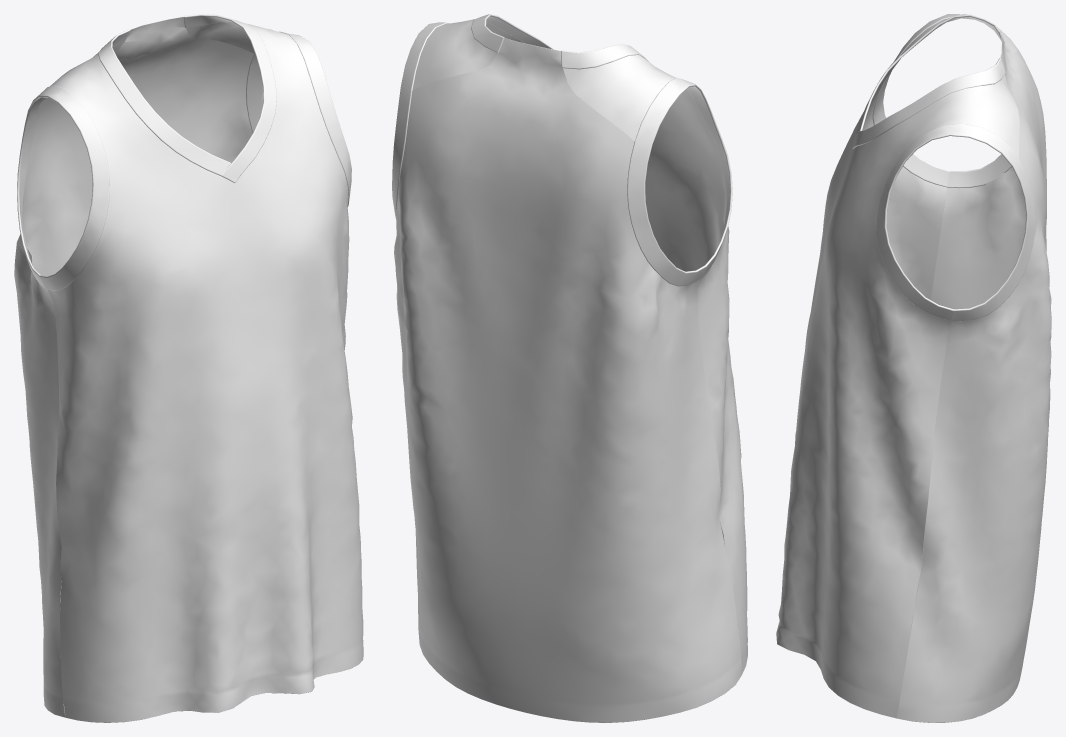
Rendered from adiglan b.glb.
3 renders of one model, left to right at view 1: azimuth 30°, elevation 25°; view 2: azimuth 150°, elevation 25°; view 3: azimuth 270°, elevation 25°, orthographic. The views are drawn at different scales.
Visible parts, largest first — view 1: FRENTE_Node, ESPALDA_Node, SISA DERECHA_Node, CUELLO DERECHO_Node, SISA IZQUIERDA_Node, CUELLO IZQUIERDO_Node; view 2: ESPALDA_Node, FRENTE_Node, SISA DERECHA_Node, SISA IZQUIERDA_Node, CUELLO IZQUIERDO_Node, CUELLO DERECHO_Node; view 3: FRENTE_Node, ESPALDA_Node, SISA IZQUIERDA_Node, SISA DERECHA_Node, CUELLO IZQUIERDO_Node, CUELLO DERECHO_Node.
Boxes of the visible parts, bbox=[...] form: FRENTE_Node: bbox=[40, 22, 363, 722]; ESPALDA_Node: bbox=[14, 16, 253, 717]; SISA DERECHA_Node: bbox=[17, 85, 109, 290]; CUELLO DERECHO_Node: bbox=[98, 29, 240, 182]; SISA IZQUIERDA_Node: bbox=[246, 31, 351, 206]; CUELLO IZQUIERDO_Node: bbox=[184, 14, 276, 182]; ESPALDA_Node: bbox=[394, 38, 741, 722]; FRENTE_Node: bbox=[412, 19, 747, 674]; SISA DERECHA_Node: bbox=[627, 78, 732, 286]; SISA IZQUIERDA_Node: bbox=[392, 22, 448, 219]; CUELLO IZQUIERDO_Node: bbox=[471, 14, 555, 53]; CUELLO DERECHO_Node: bbox=[561, 44, 648, 69]; FRENTE_Node: bbox=[776, 17, 1019, 718]; ESPALDA_Node: bbox=[896, 32, 1051, 722]; SISA IZQUIERDA_Node: bbox=[876, 123, 1035, 321]; SISA DERECHA_Node: bbox=[872, 14, 1011, 188]; CUELLO IZQUIERDO_Node: bbox=[852, 58, 1005, 148]; CUELLO DERECHO_Node: bbox=[852, 14, 1004, 148].
Bounding box in the file's own units: 0.3858 × 0.797 × 0.3183.
Materials: 8 (8 with a texture image).
